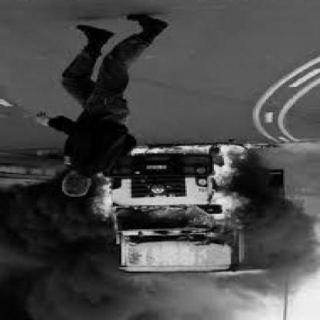Smoke: (3, 215, 117, 309)
